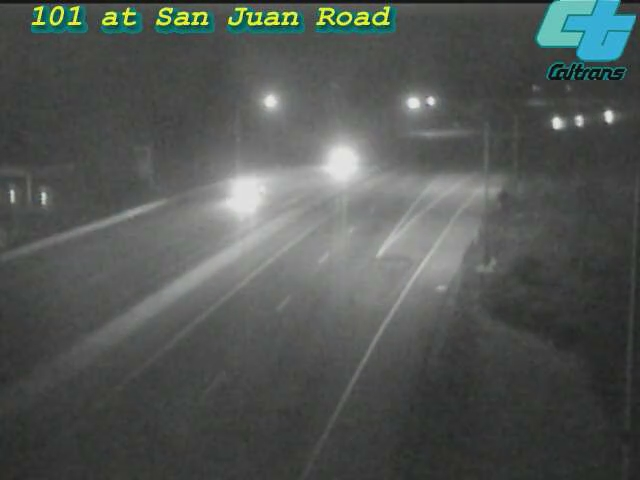vehicle: (195, 153, 275, 233), (296, 122, 376, 202), (584, 91, 634, 141), (554, 96, 604, 146), (532, 98, 582, 148)
